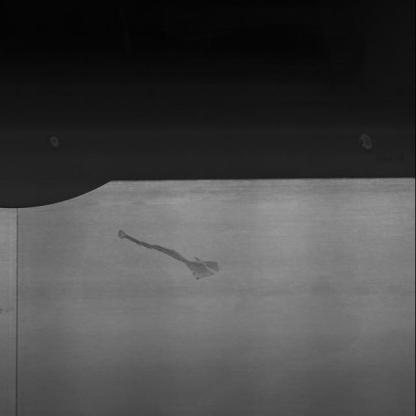crescent_gap: (1, 174, 117, 216)
oil_spot: (111, 226, 226, 284)
welding_line: (10, 208, 25, 416)
